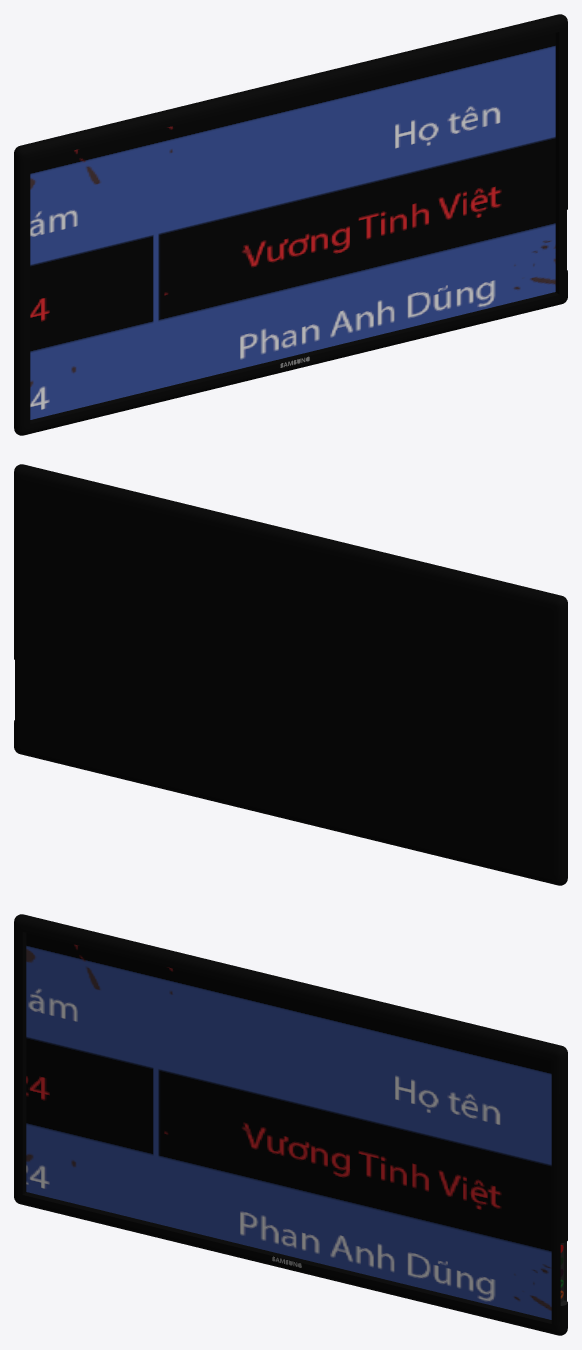
File: tivi3d.fbx
3 renders of one model, top to bottom at view 1: azimuth 30°, elevation 25°; view 2: azimuth 150°, elevation 25°; view 3: azimuth 330°, elevation 25°, orthographic.
Visible parts, largest first — view 1: tv; view 2: tv; view 3: tv.
Boxes of the visible parts, left/top/right/bottom form: tv: left=14, top=14, right=567, bottom=435; tv: left=14, top=464, right=567, bottom=885; tv: left=14, top=914, right=567, bottom=1335.
Size of the model in its own units: 400 by 200 by 10.16.
Materials: 9 (1 with a texture image).
